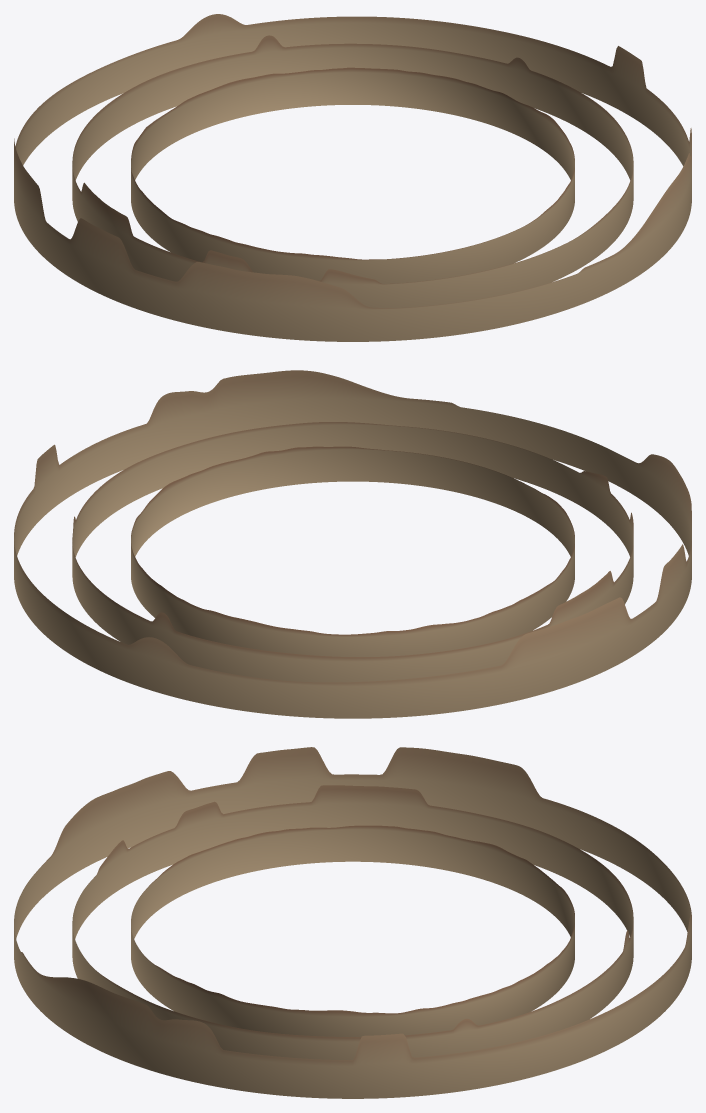
The picture shows the model from 3 angles, top to bottom: view 1: azimuth 30°, elevation 25°; view 2: azimuth 150°, elevation 25°; view 3: azimuth 270°, elevation 25°; orthographic projection.
Parts seen in each view (by area): view 1: Backdrop_L1_1; view 2: Backdrop_L1_1; view 3: Backdrop_L1_1.
Boxes of the visible parts, <box> form: Backdrop_L1_1: <box>14,14,691,341</box>; Backdrop_L1_1: <box>14,370,691,718</box>; Backdrop_L1_1: <box>14,747,691,1098</box>.
Size of the model in its own units: 2320 by 253 by 2320.
